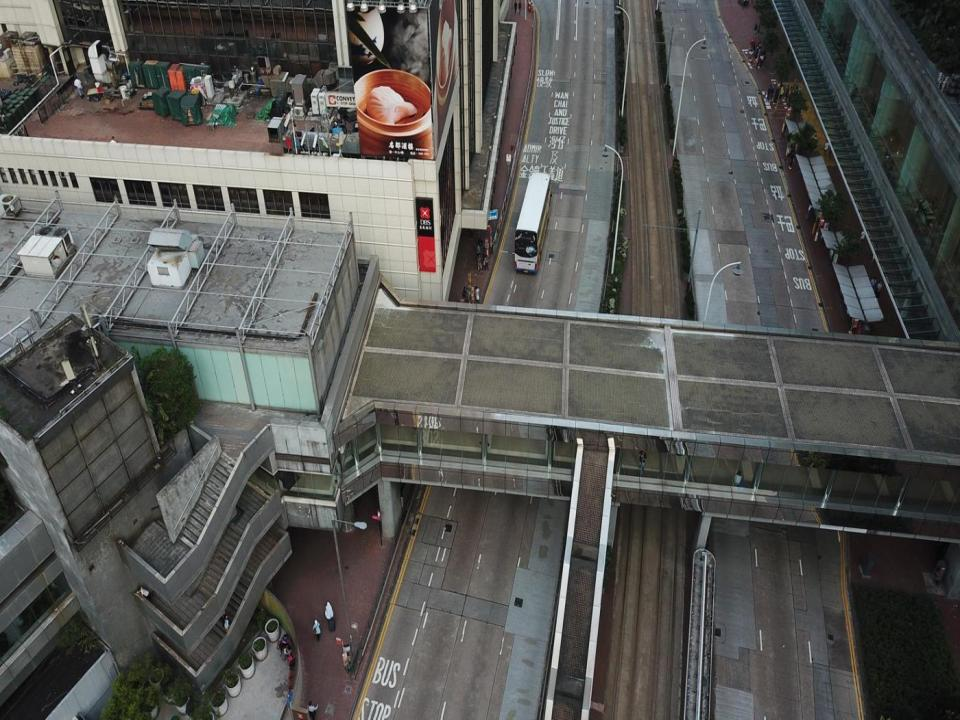bus: (514, 172, 551, 274)
